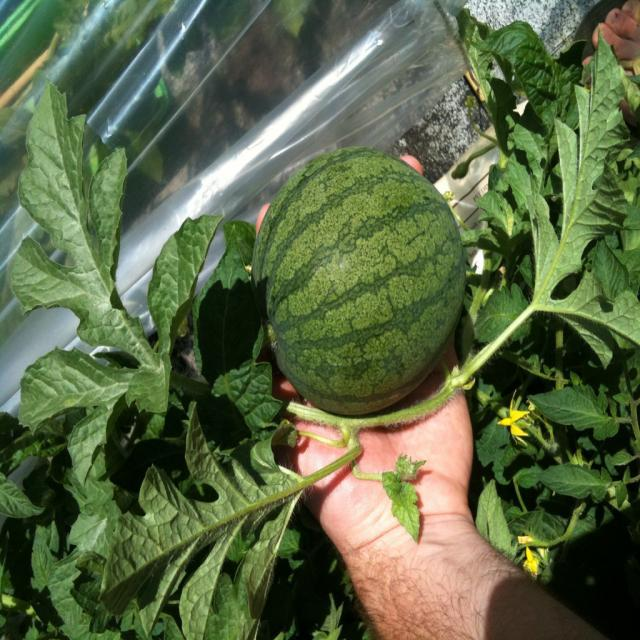Watermelon: (254, 145, 468, 413)
